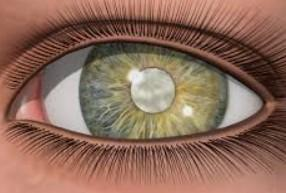eye: (79, 41, 227, 138)
